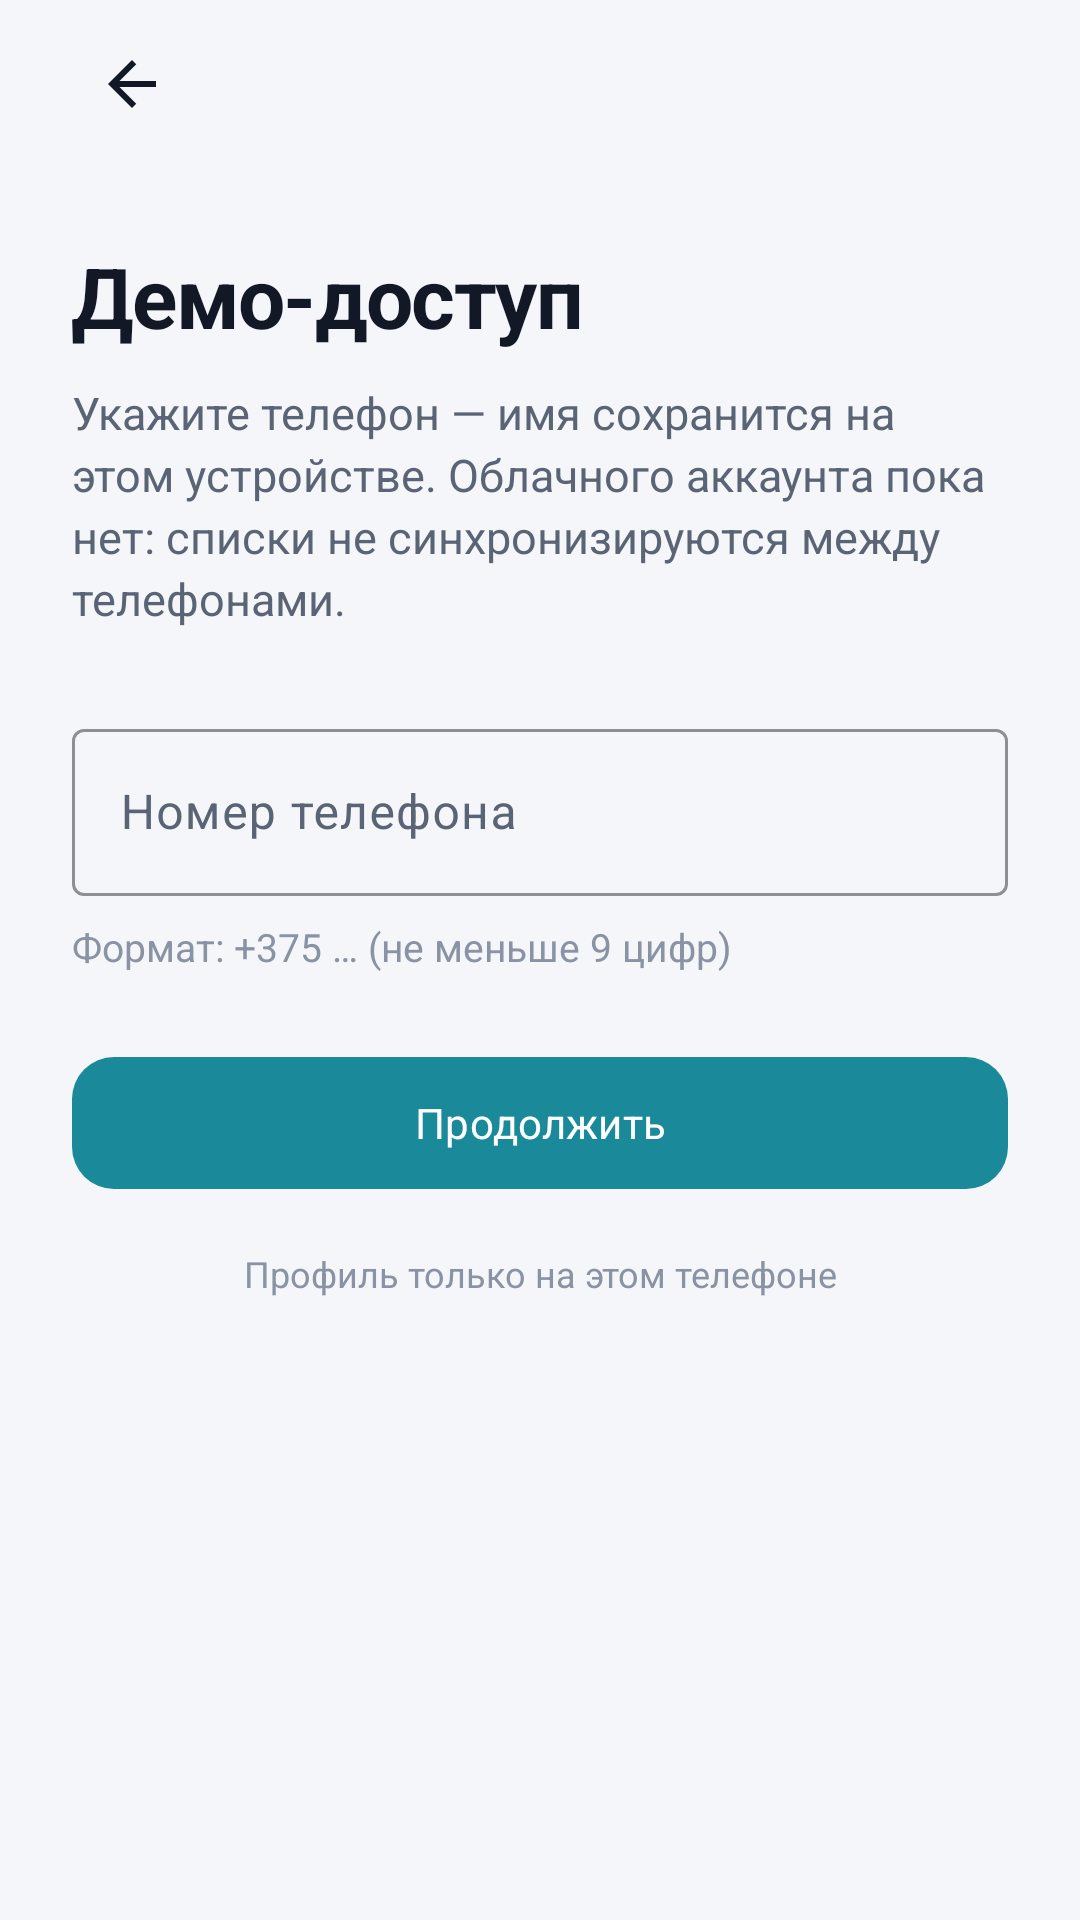

Locate icon controls on the screen. Image size 1080 x 1920, boxes as bbox=[x1, y1, x2, y2].
Назад: bbox=[108, 60, 156, 108]
